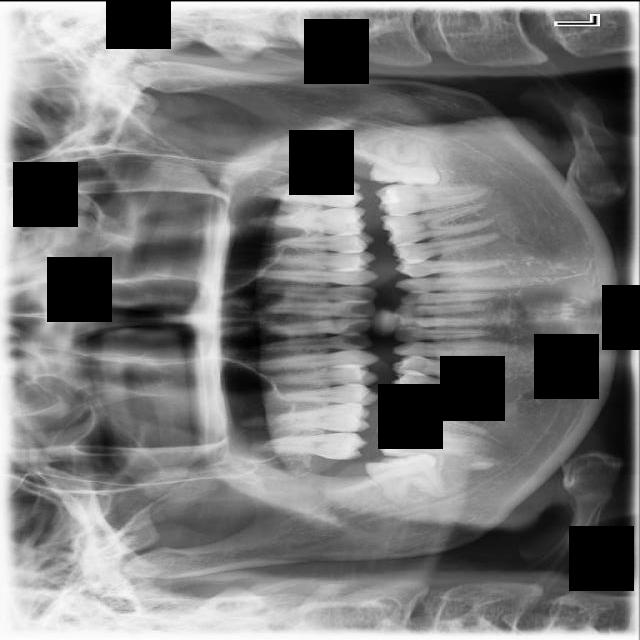52: (376, 384, 426, 432), (374, 180, 418, 219)
73: (596, 26, 608, 30)
BioHorizons Implant: (253, 168, 365, 210)
Biomet 3i Implant: (369, 136, 441, 186)
Blue Sky Bio Implant: (375, 183, 490, 215)
Caries: (251, 423, 370, 461)
Implant: (372, 419, 488, 468)
Keystone Dental Implant: (362, 444, 445, 513)
